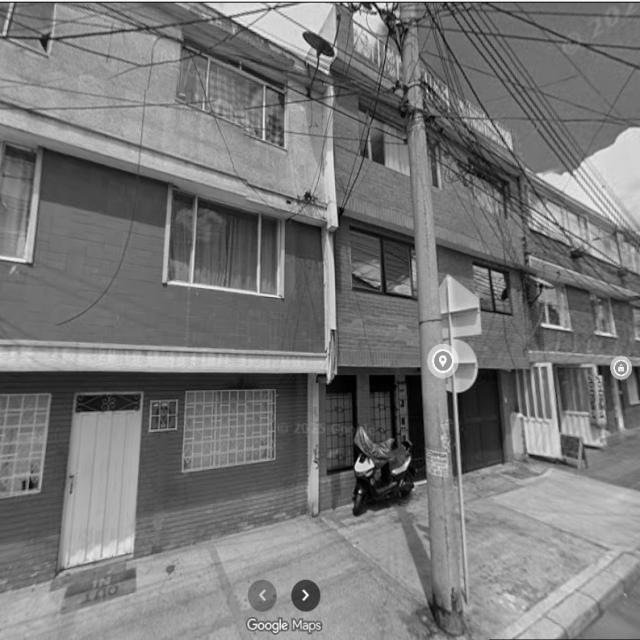Fachada: (0, 2, 337, 590), (320, 8, 426, 507), (420, 63, 533, 469), (515, 173, 639, 458)
Poste: (399, 3, 462, 634)
